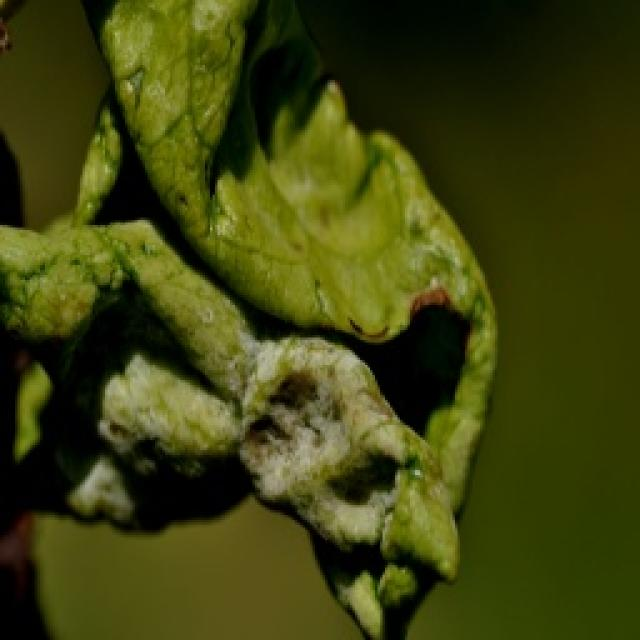peach_leaf_curl: (0, 0, 500, 638)
